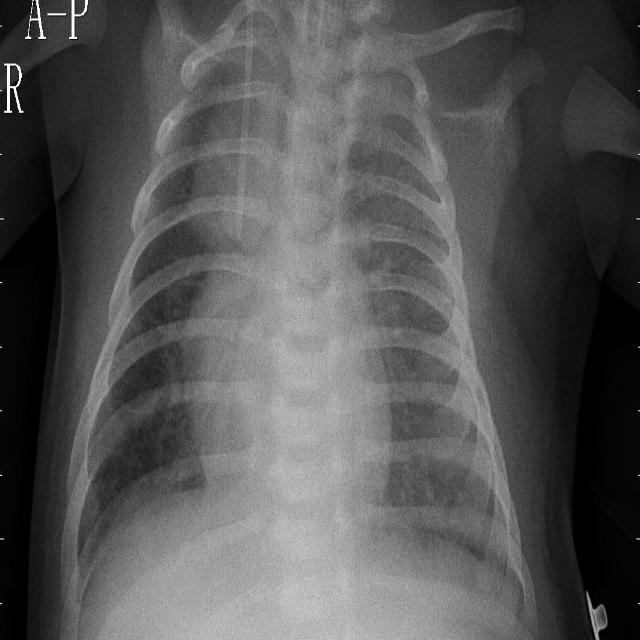low-pneumonia: (180, 76, 242, 242)
